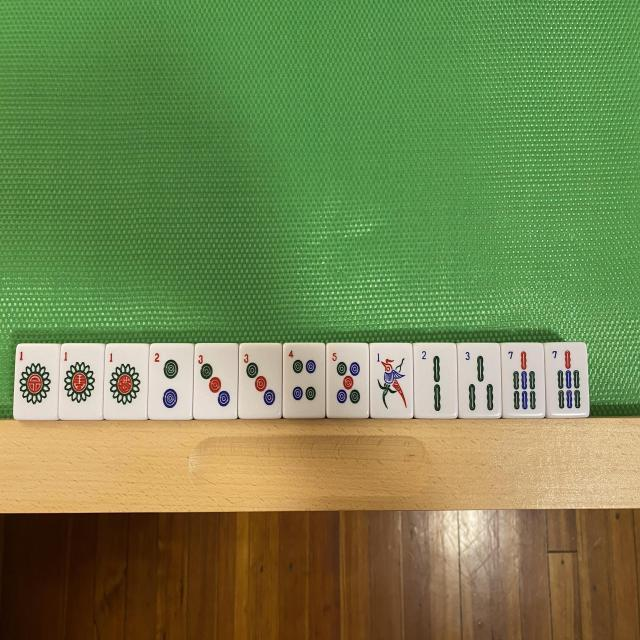sb1: (372, 347, 409, 414)
sb2: (418, 347, 453, 415)
sb3: (460, 347, 498, 414)
sb7: (503, 347, 543, 414), (547, 346, 585, 413)
sd1: (106, 347, 145, 416), (17, 346, 55, 416), (61, 348, 100, 416)
sd2: (150, 347, 190, 417)
sd3: (197, 346, 236, 416), (241, 346, 278, 414)
sd4: (284, 347, 322, 413)
sd5: (329, 347, 366, 412)
